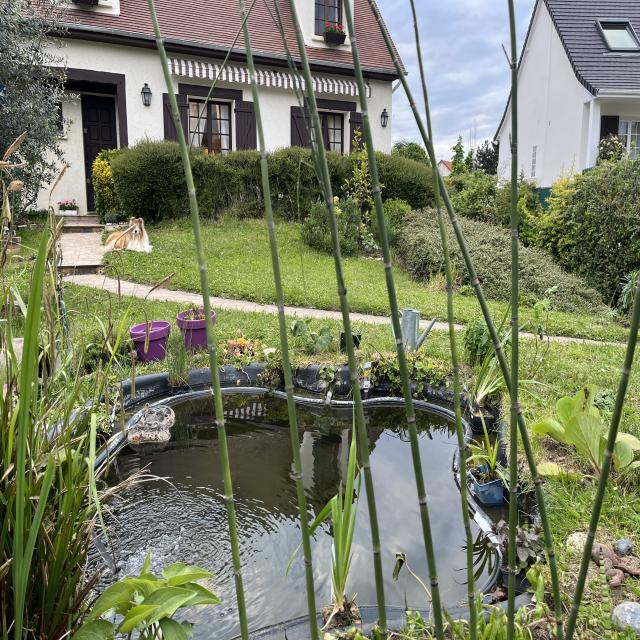Dog: (98, 199, 156, 267)
